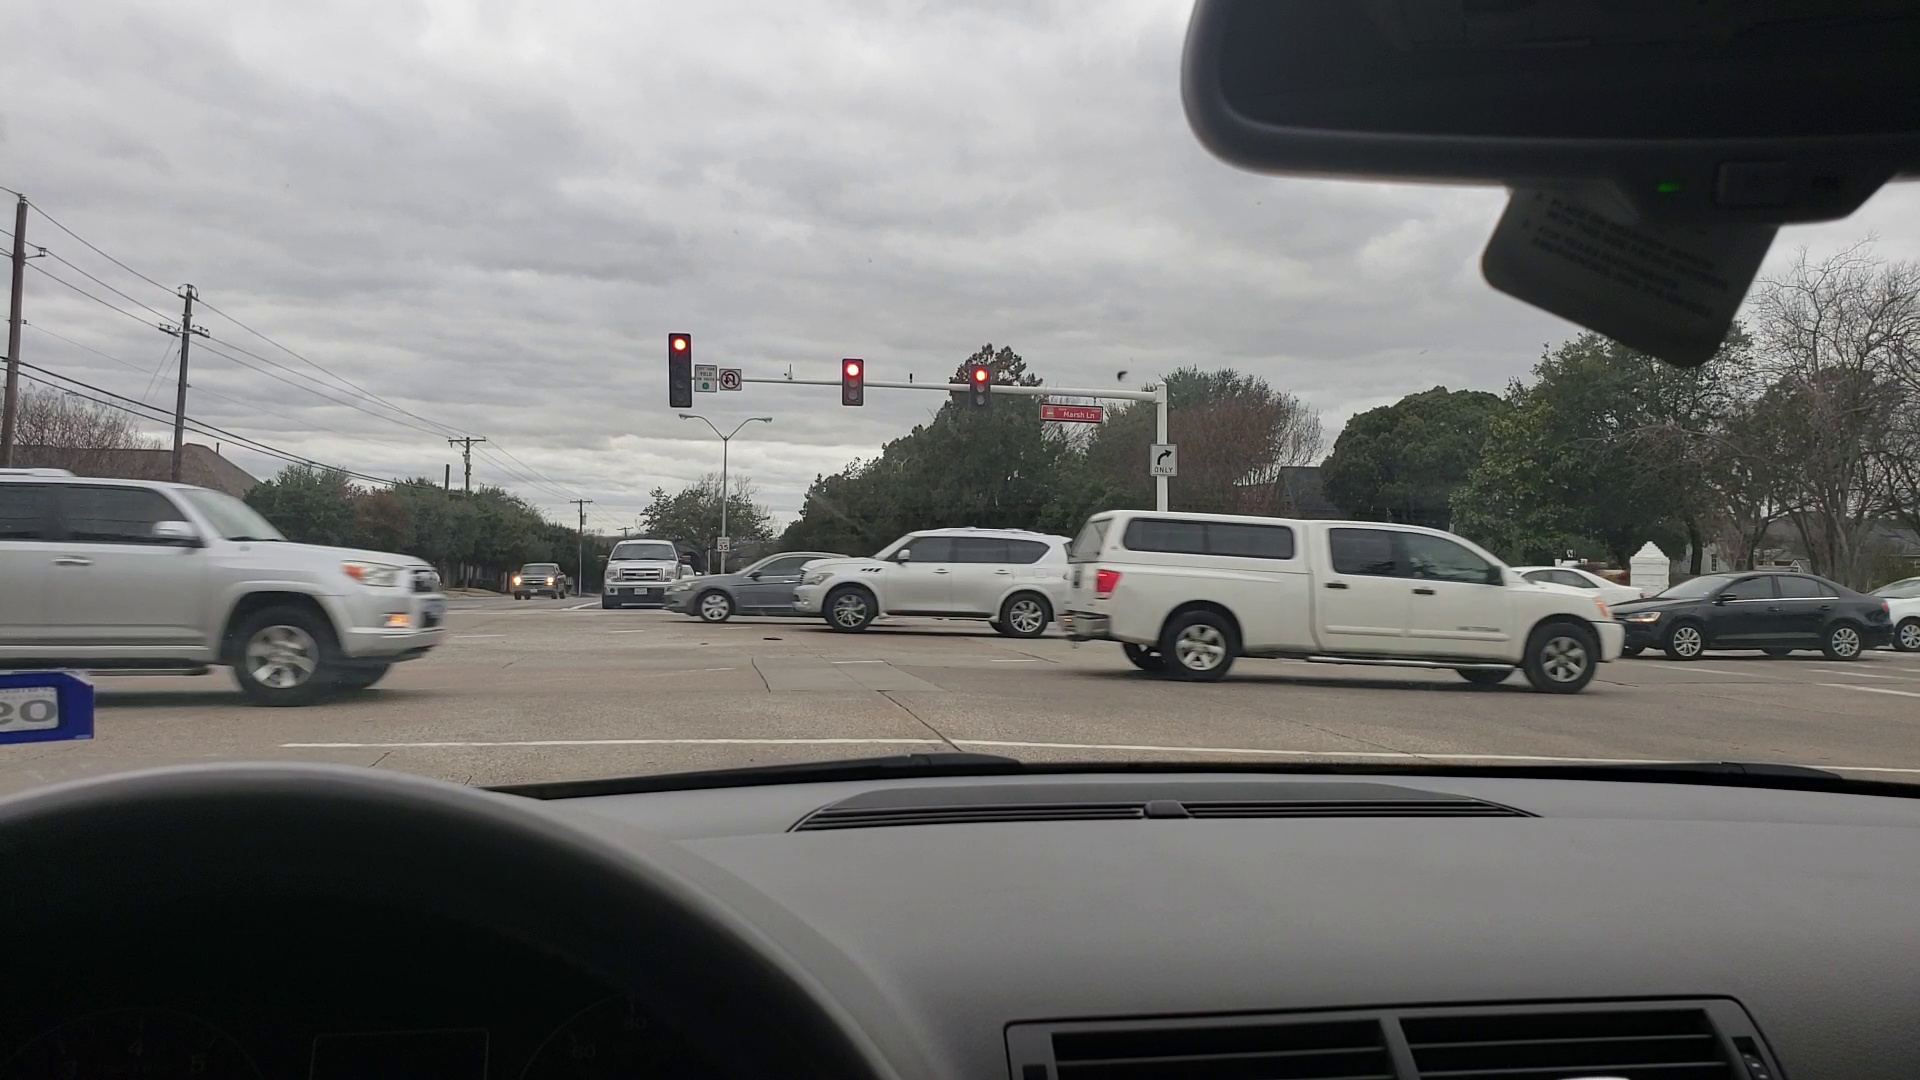car: (5, 465, 443, 698), (798, 509, 1075, 647), (1615, 554, 1894, 665), (673, 543, 890, 634), (1515, 553, 1644, 621), (1869, 567, 1920, 641)
traffic light: (669, 328, 694, 411), (843, 359, 865, 402), (975, 361, 997, 402)
truck: (1083, 513, 1627, 698), (609, 531, 692, 600), (508, 553, 578, 596)
